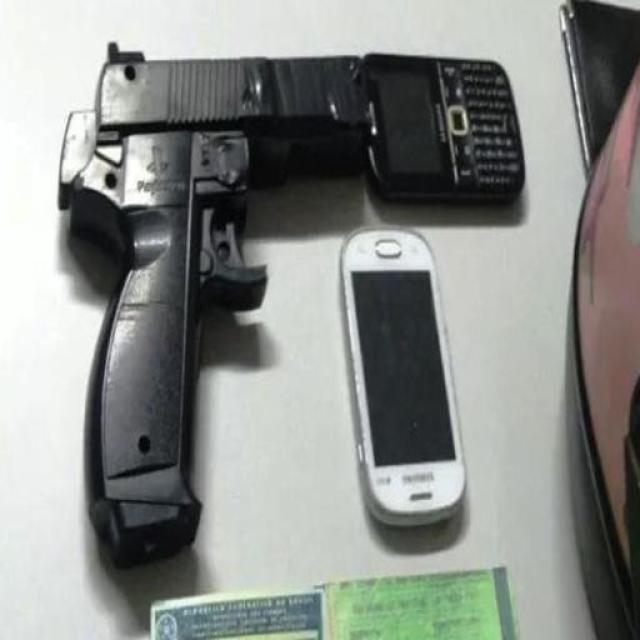pistol: (53, 36, 374, 566)
